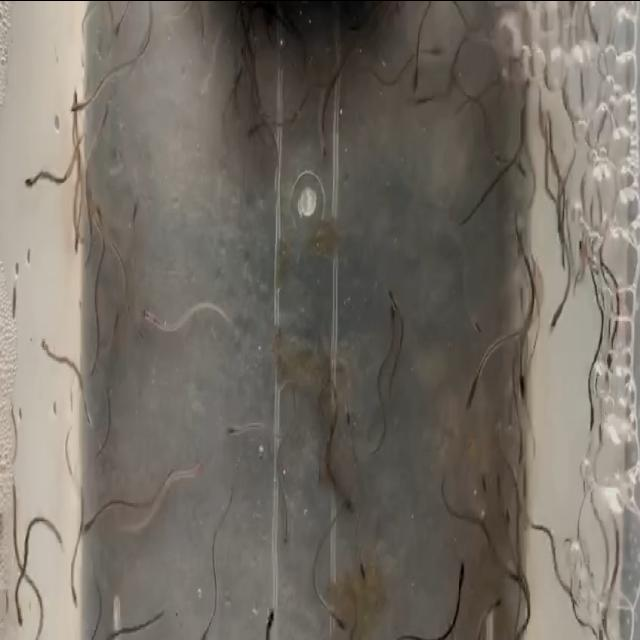active_glass_eel: (462, 370, 480, 409), (338, 480, 356, 514), (550, 296, 562, 342), (514, 429, 526, 471), (24, 168, 42, 195), (422, 38, 444, 60), (80, 512, 96, 542), (602, 350, 616, 384), (187, 456, 205, 482), (140, 299, 156, 328), (330, 610, 350, 633), (409, 90, 428, 114), (67, 580, 81, 612), (456, 559, 468, 596), (70, 93, 88, 117), (100, 94, 110, 136), (341, 397, 354, 429), (225, 418, 242, 442), (502, 508, 514, 542), (516, 366, 527, 402), (468, 308, 482, 336), (265, 606, 277, 638), (488, 592, 504, 616), (478, 472, 490, 504), (320, 121, 330, 159), (492, 474, 506, 500), (70, 90, 80, 126), (281, 514, 291, 550), (386, 304, 396, 340), (37, 338, 54, 359), (240, 26, 251, 58), (514, 156, 530, 177), (14, 600, 24, 633), (357, 552, 368, 582), (97, 200, 107, 232), (246, 118, 262, 138), (410, 62, 420, 94), (164, 603, 180, 622), (388, 282, 398, 312), (112, 14, 124, 38), (110, 310, 120, 336), (74, 225, 82, 257), (198, 622, 212, 640), (88, 181, 96, 211), (130, 197, 138, 227)
